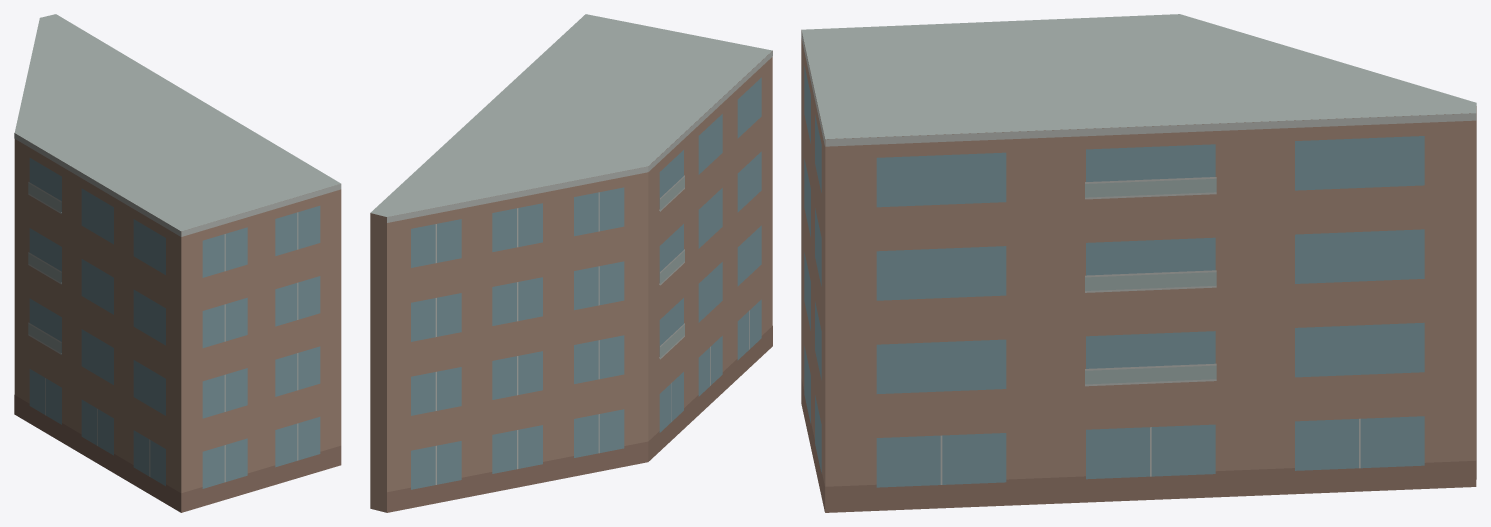
Rendered from survey-upis-32734977.glb.
3 renders of one model, left to right at view 1: azimuth 30°, elevation 25°; view 2: azimuth 150°, elevation 25°; view 3: azimuth 270°, elevation 25°, orthographic. The views are drawn at different scales.
Visible parts, largest first — view 1: survey-upis-32734977.tmp; view 2: survey-upis-32734977.tmp; view 3: survey-upis-32734977.tmp.
Part boxes in pixels (left/top/right/bottom): survey-upis-32734977.tmp: left=14, top=14, right=341, bottom=512; survey-upis-32734977.tmp: left=370, top=14, right=772, bottom=512; survey-upis-32734977.tmp: left=801, top=14, right=1476, bottom=512.
Size of the model in its own units: 8.77 by 12.2 by 19.99.
